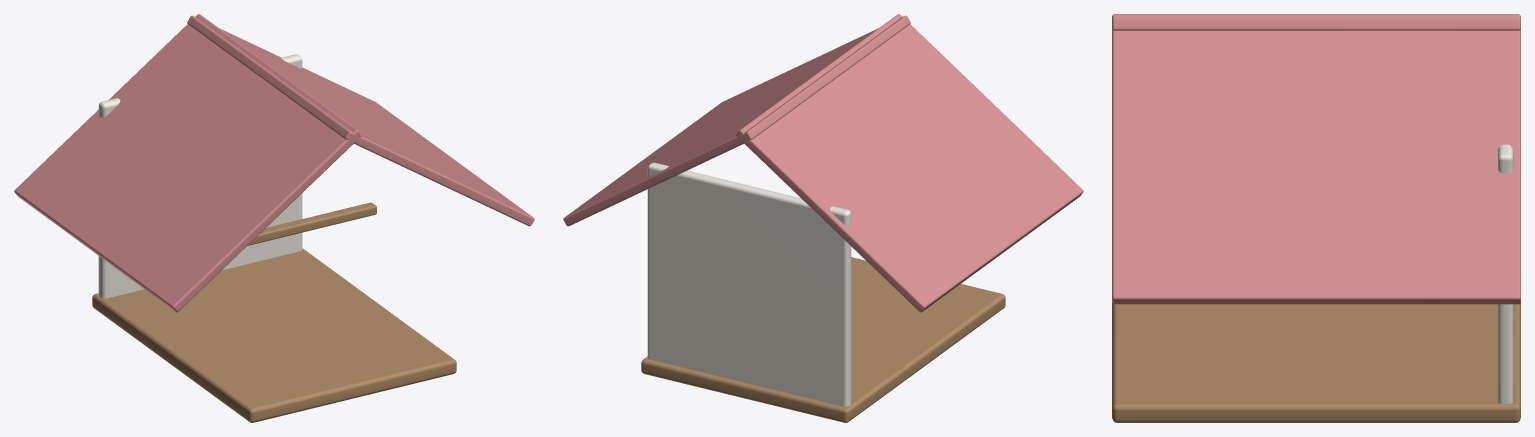
File: atelier-dollhouse.glb
The picture shows the model from 3 angles, left to right: view 1: azimuth 30°, elevation 25°; view 2: azimuth 150°, elevation 25°; view 3: azimuth 270°, elevation 25°; orthographic projection. The views are drawn at different scales.
Visible parts, largest first — view 1: flower.004, legs.187, ceramic.124; view 2: flower.004, ceramic.124, legs.187; view 3: flower.004, legs.187, ceramic.124.
Boxes of the visible parts, left/top/right/bottom form: flower.004: left=14, top=14, right=534, bottom=312; legs.187: left=92, top=202, right=456, bottom=422; ceramic.124: left=98, top=54, right=302, bottom=298; flower.004: left=563, top=14, right=1083, bottom=312; ceramic.124: left=647, top=162, right=851, bottom=406; legs.187: left=641, top=257, right=1005, bottom=422; flower.004: left=1112, top=14, right=1520, bottom=304; legs.187: left=1112, top=302, right=1520, bottom=422; ceramic.124: left=1498, top=144, right=1513, bottom=403.
Bounding box in the file's own units: 1.05 × 0.7418 × 0.8.
